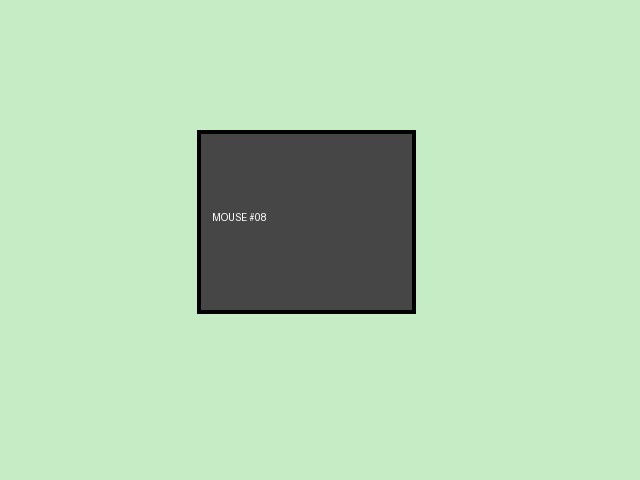mouse: (197, 130, 415, 313)
